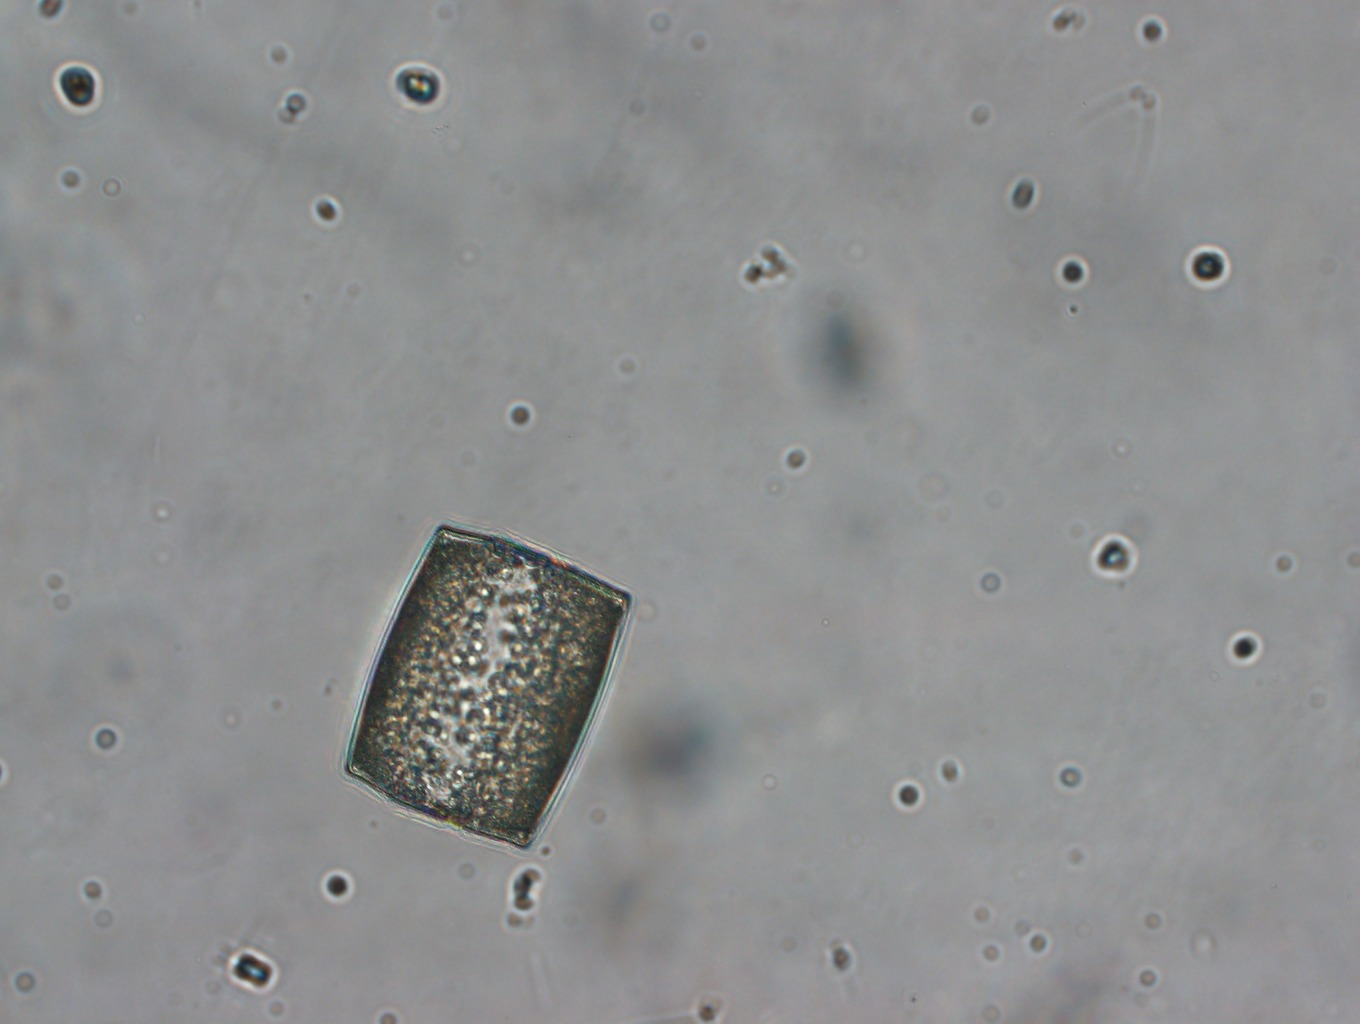coscinodiscus flank: (335, 513, 635, 857)
